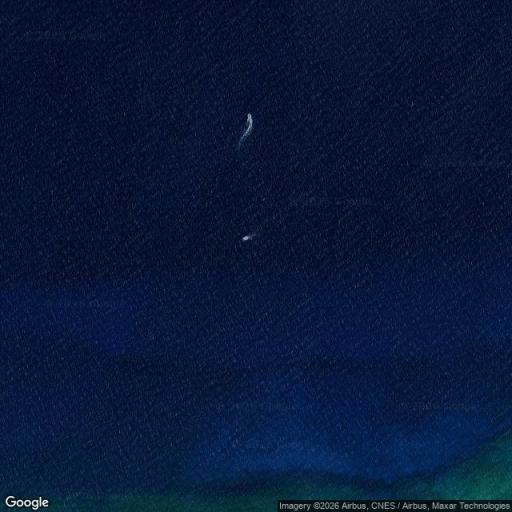ship: (237, 111, 264, 151), (239, 230, 262, 248)
